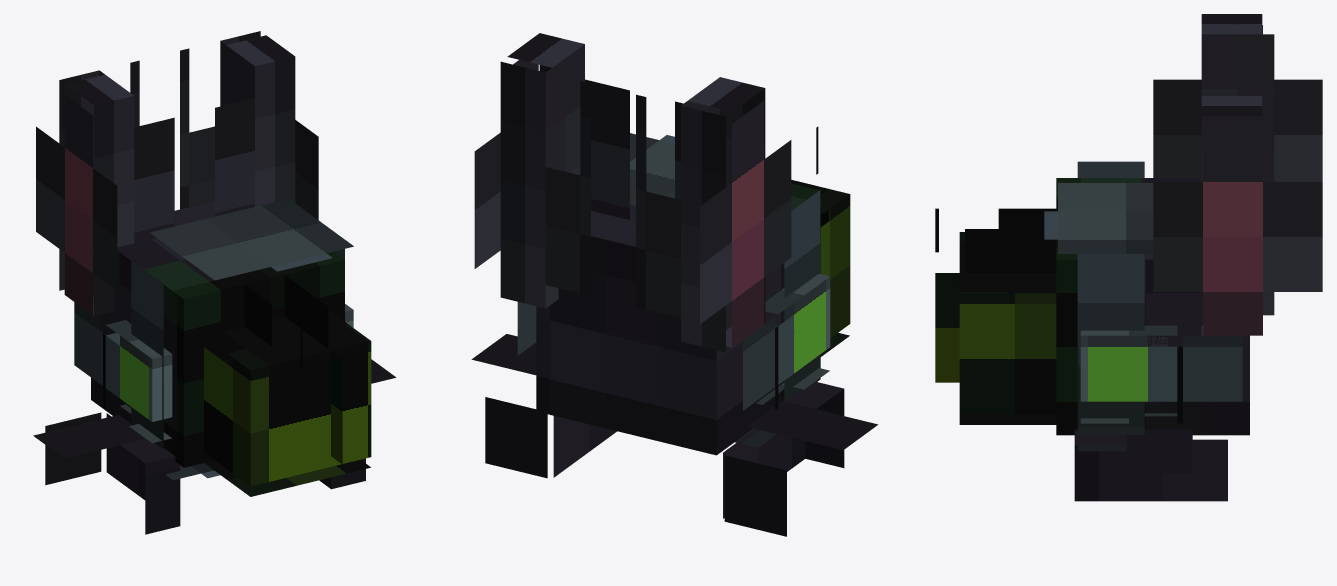
The model's file is sl_protogen_head__head.glb.
The picture shows the model from 3 angles, left to right: view 1: azimuth 30°, elevation 25°; view 2: azimuth 150°, elevation 25°; view 3: azimuth 270°, elevation 25°; orthographic projection. The views are drawn at different scales.
Visible parts, largest first — view 1: bb_protogen_head; view 2: bb_protogen_head; view 3: bb_protogen_head.
Part boxes in pixels (x1,y1,x2,y2): bb_protogen_head: (33,31,396,534); bb_protogen_head: (471,33,878,536); bb_protogen_head: (935,14,1322,501).
Size of the model in its own units: 1.03 by 1.2 by 1.
1 material, 1 textured.
